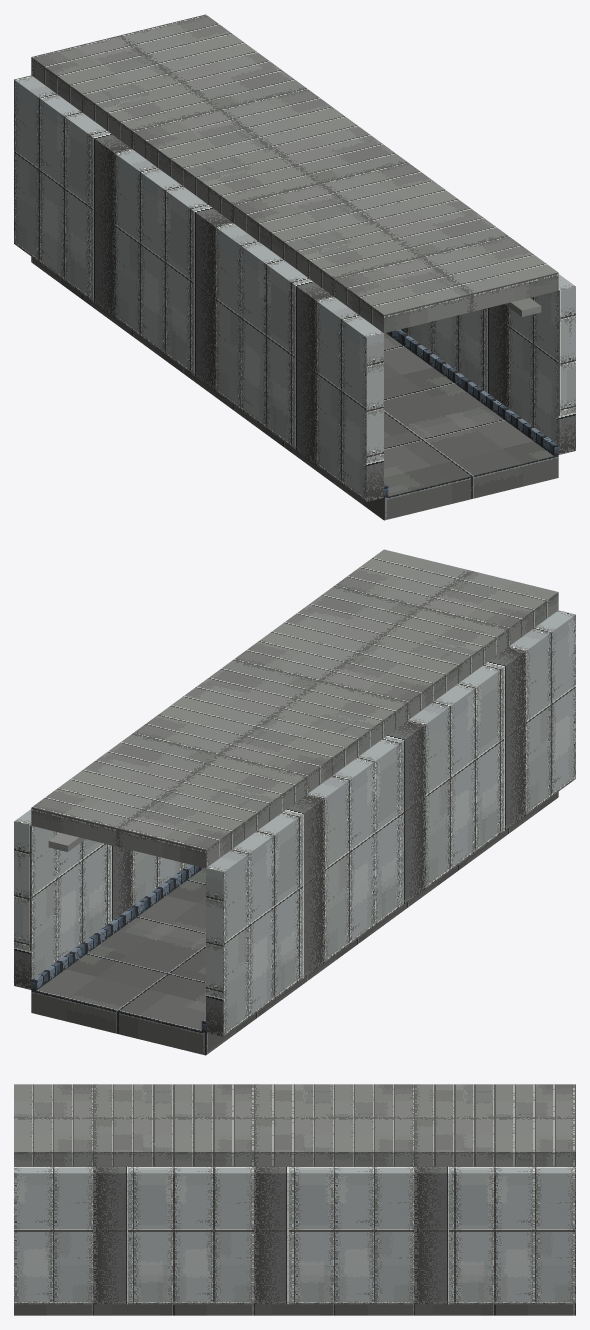
File: shell_corridor_narrow.glb
3 views of the same model, one above another, from view 1: azimuth 30°, elevation 25°; view 2: azimuth 150°, elevation 25°; view 3: azimuth 270°, elevation 25° (orthographic). The views are drawn at different scales.
Visible parts, largest first — view 1: shell_corridor_narrow; view 2: shell_corridor_narrow; view 3: shell_corridor_narrow.
Boxes of the visible parts, x1,y1,x2,y2 form: shell_corridor_narrow: [14, 14, 575, 520]; shell_corridor_narrow: [14, 549, 575, 1055]; shell_corridor_narrow: [14, 1084, 575, 1315].
Bounding box in the file's own units: 4.8 × 4.5 × 14.
Materials: 11 (11 with a texture image).
